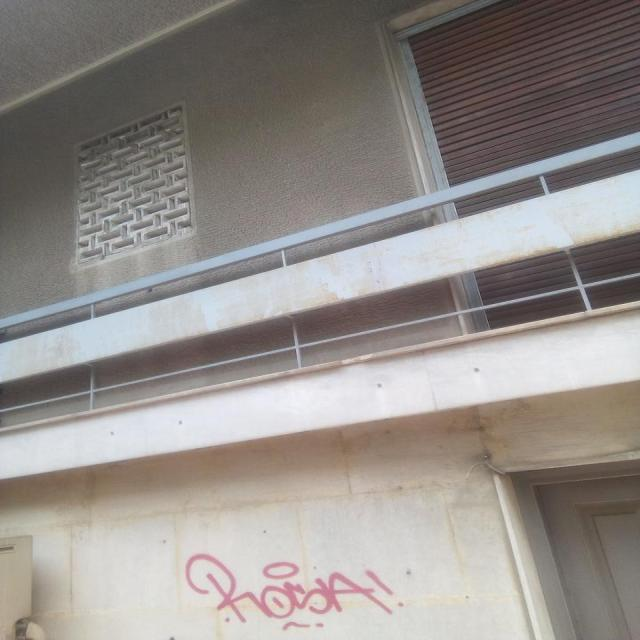nonspitting: (183, 550, 404, 634)
